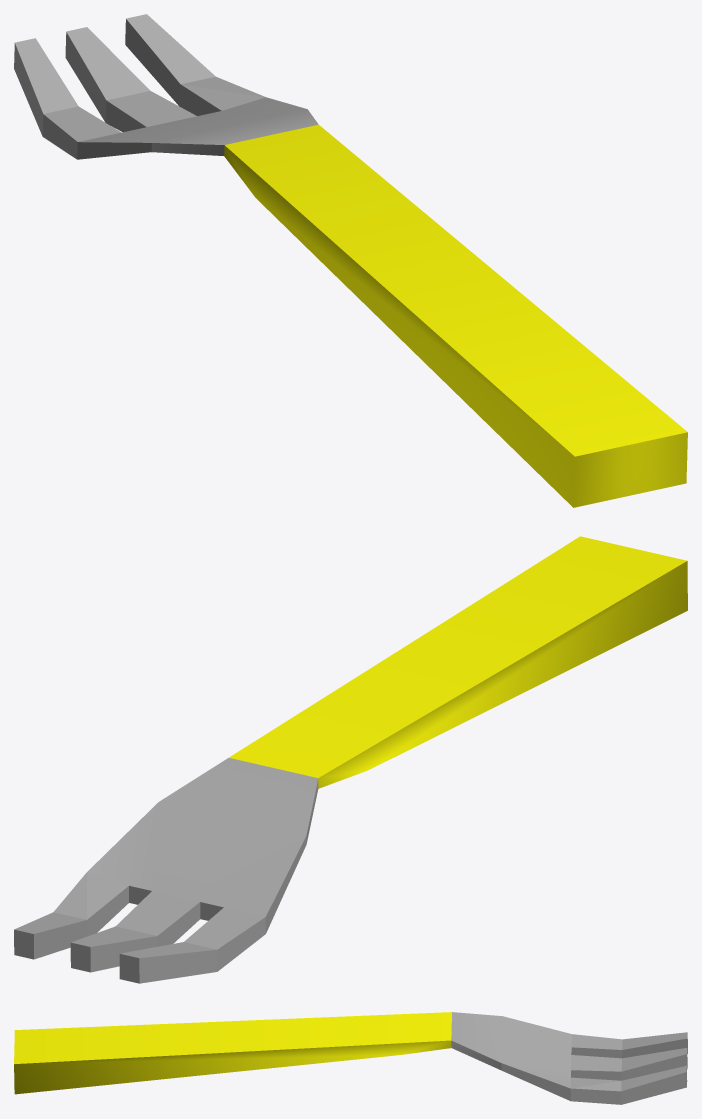
The model's file is Fork_Yellow.fbx.
The picture shows the model from 3 angles, top to bottom: view 1: azimuth 30°, elevation 25°; view 2: azimuth 150°, elevation 25°; view 3: azimuth 270°, elevation 25°; orthographic projection. The views are drawn at different scales.
Visible parts, largest first — view 1: Fork_Yellow; view 2: Fork_Yellow; view 3: Fork_Yellow.
Boxes of the visible parts, bbox=[...] form: Fork_Yellow: bbox=[14, 14, 687, 507]; Fork_Yellow: bbox=[14, 536, 687, 983]; Fork_Yellow: bbox=[14, 1012, 687, 1104].
Bounding box in the file's own units: 3.01 × 1.41 × 15.72.
